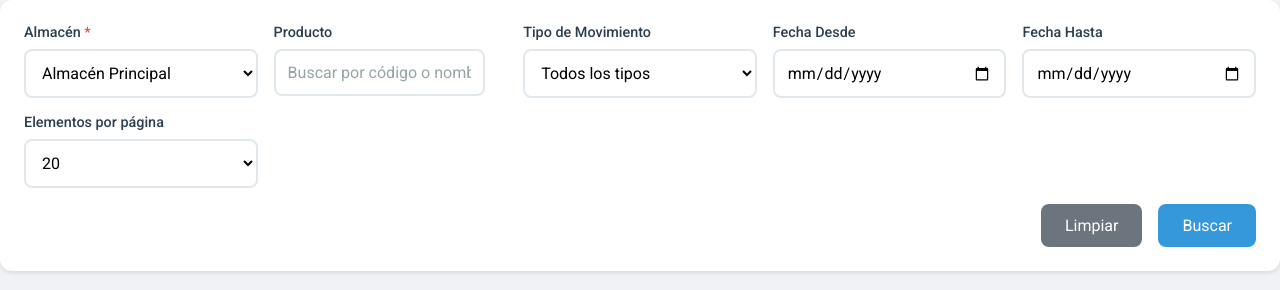
Test: FiltersKardex › Funcionalidad de autocomplete de productos › debe seleccionar producto del autocomplete
Type "Laptop" into the field with test id "kardex-filter-product-input" at (379, 72), box x1=274 y1=49 x2=485 y2=96
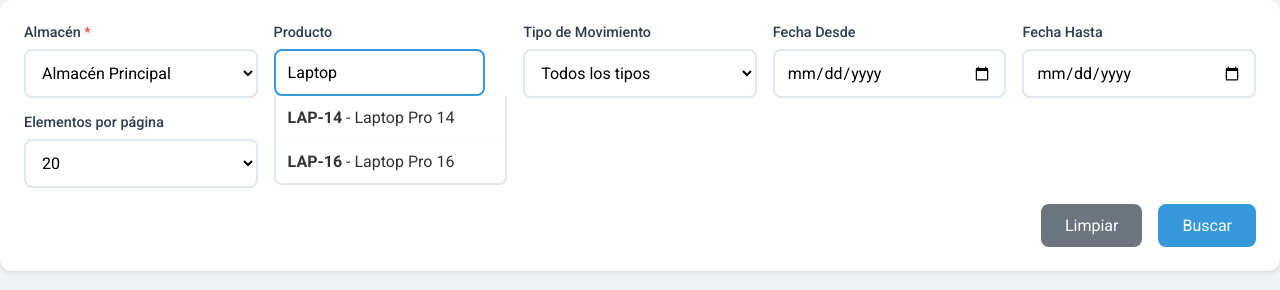
Check: the list with test id "kardex-filter-product-suggestions" is shown, box x1=274 y1=96 x2=507 y2=185
Click the list item with test id "kardex-filter-product-option-prod-1" at (390, 118), box x1=276 y1=96 x2=505 y2=140
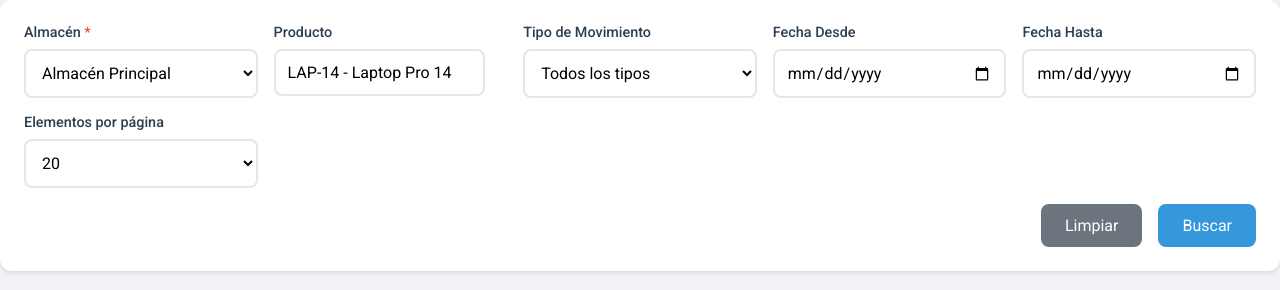
Check: the field with test id "kardex-filter-product-input" holds "LAP-14 - Laptop Pro 14", box x1=274 y1=49 x2=485 y2=96
Check: the list with test id "kardex-filter-product-suggestions" is gone
